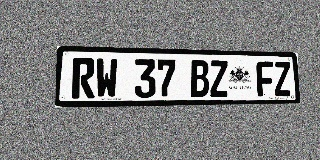3: (135, 59, 156, 98)
7: (156, 59, 176, 98)
B: (190, 60, 210, 97)
F: (256, 61, 274, 96)
R: (72, 58, 95, 99)
W: (95, 58, 118, 98)
Z: (209, 60, 229, 97), (273, 62, 291, 96)
